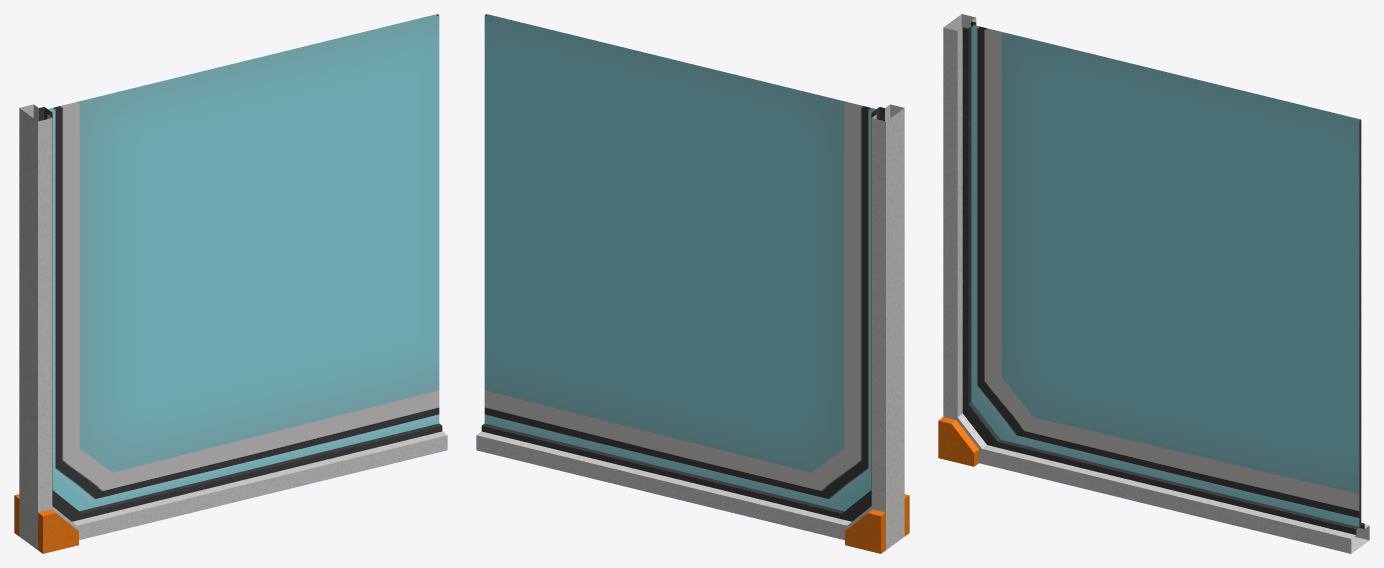
Rendered from Wall_Frame_1_LOD0.fbx.
3 renders of one model, left to right at view 1: azimuth 30°, elevation 25°; view 2: azimuth 150°, elevation 25°; view 3: azimuth 330°, elevation 25°, orthographic.
Visible parts, largest first — view 1: Window_Frame_1_LOD0; view 2: Window_Frame_1_LOD0; view 3: Window_Frame_1_LOD0.
Boxes of the visible parts, x1=… form: Window_Frame_1_LOD0: x1=14, y1=14, x2=447, y2=553; Window_Frame_1_LOD0: x1=476, y1=14, x2=909, y2=553; Window_Frame_1_LOD0: x1=938, y1=14, x2=1369, y2=553.
Size of the model in its own units: 200 by 200 by 24.25.
